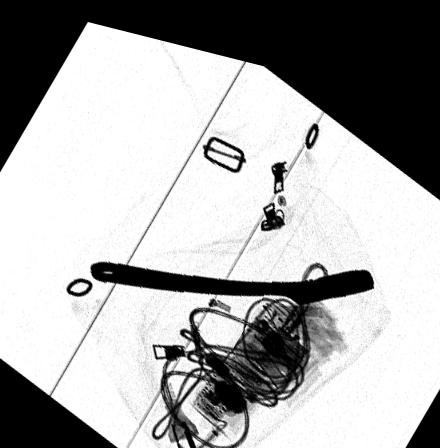Wrench: (88, 248, 377, 290)
